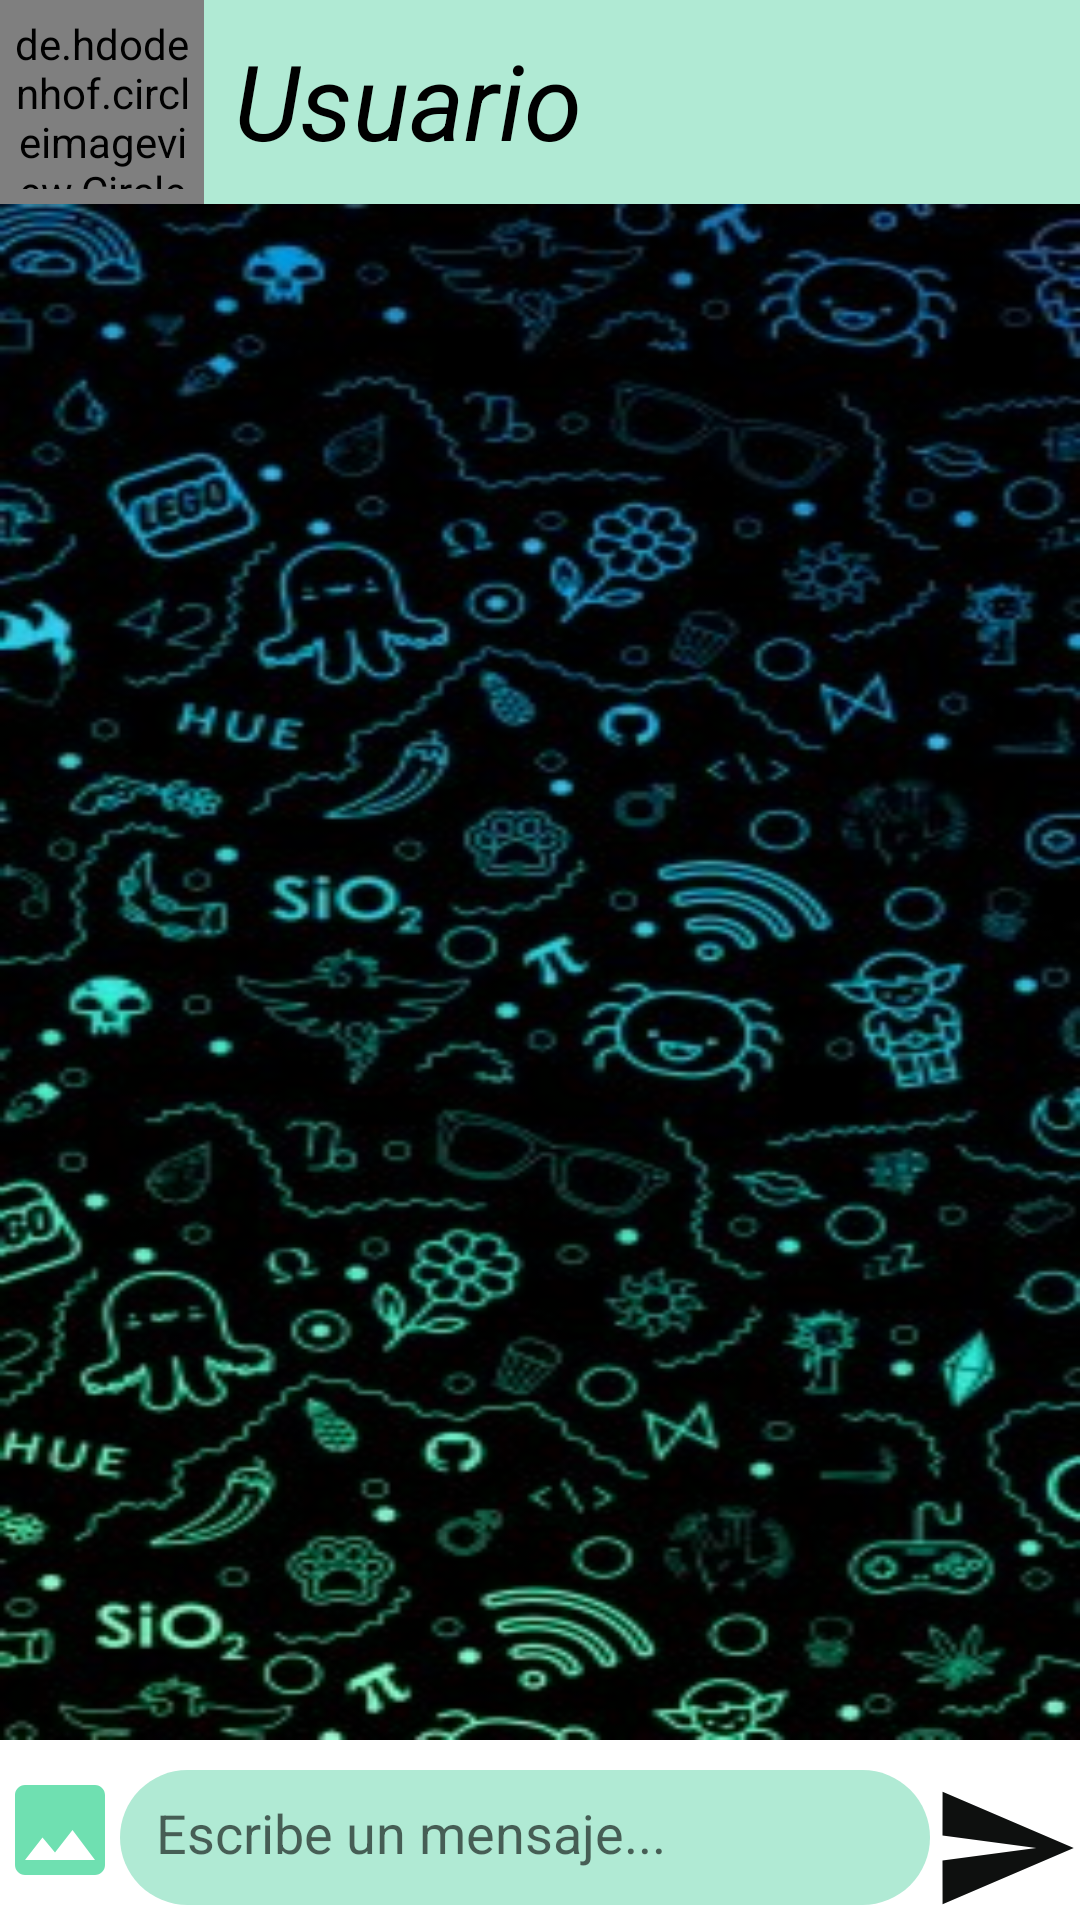

Where icons sit on this 1080px x 1920px app screen, as bbox=(x1, y1, x2, y2):
send: bbox=(942, 1792, 1074, 1904)
